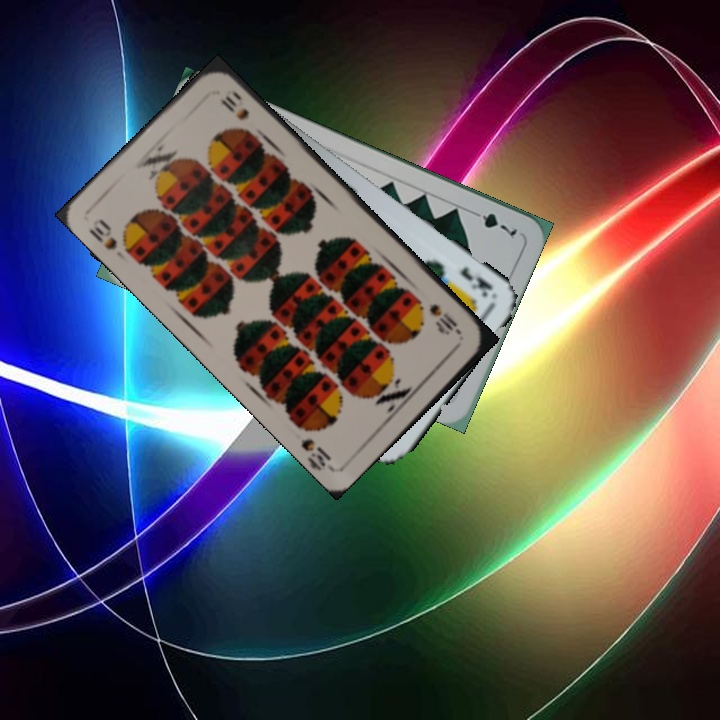EK: (455, 262, 496, 301)
G7: (466, 206, 520, 242)
S10: (424, 299, 464, 338), (85, 215, 120, 253)
